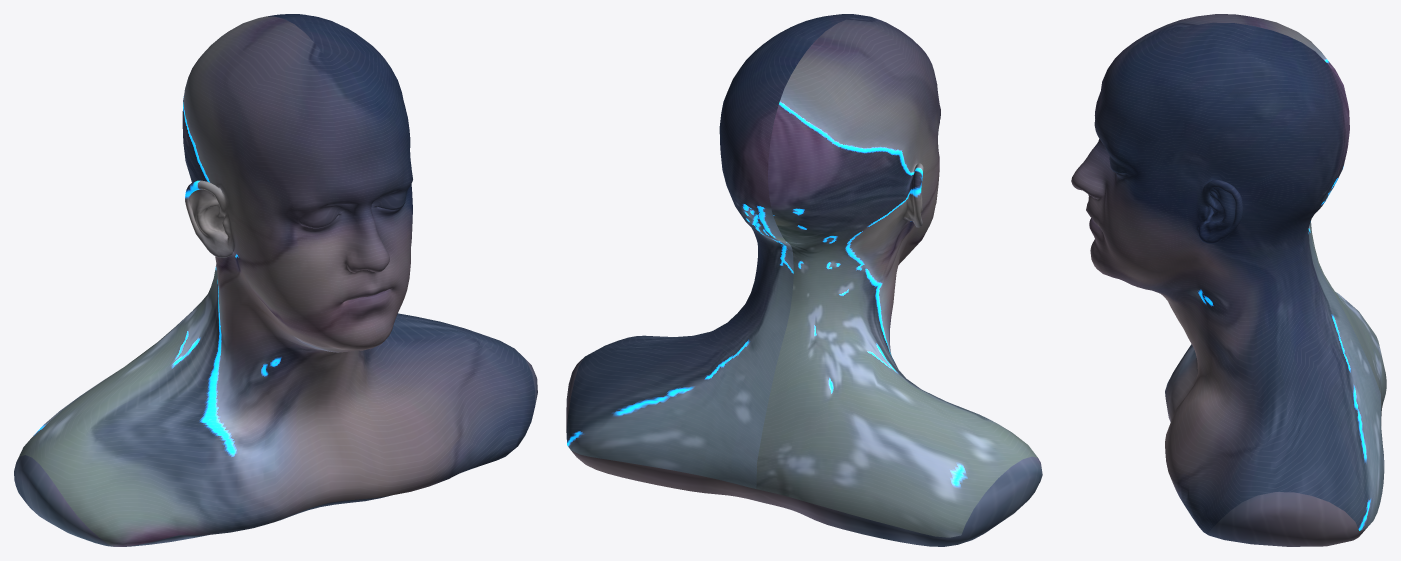
The model's file is holo_1767777729070.glb.
3 renders of one model, left to right at view 1: azimuth 30°, elevation 25°; view 2: azimuth 150°, elevation 25°; view 3: azimuth 270°, elevation 25°, orthographic. The views are drawn at different scales.
Visible parts, largest first — view 1: LeePerrySmith; view 2: LeePerrySmith; view 3: LeePerrySmith.
Part boxes in pixels (x1,y1,x2,y2): LeePerrySmith: (14,14,537,546); LeePerrySmith: (566,14,1042,546); LeePerrySmith: (1071,14,1386,546).
Bounding box in the file's own units: 8.55 × 7.95 × 5.18.
Materials: 1 (1 with a texture image).
